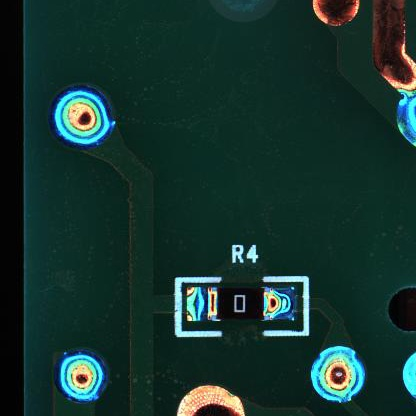spot: (49, 86, 117, 147), (309, 345, 367, 401), (51, 347, 108, 402)
